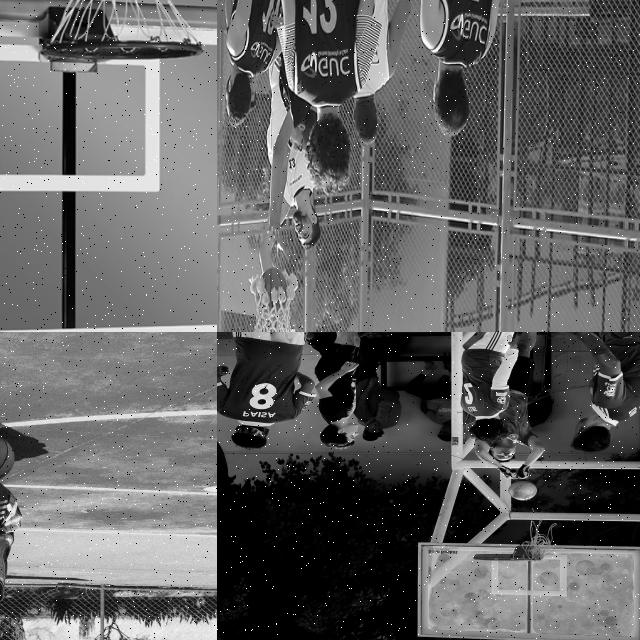backboard: (0, 0, 217, 332), (418, 527, 640, 640)
